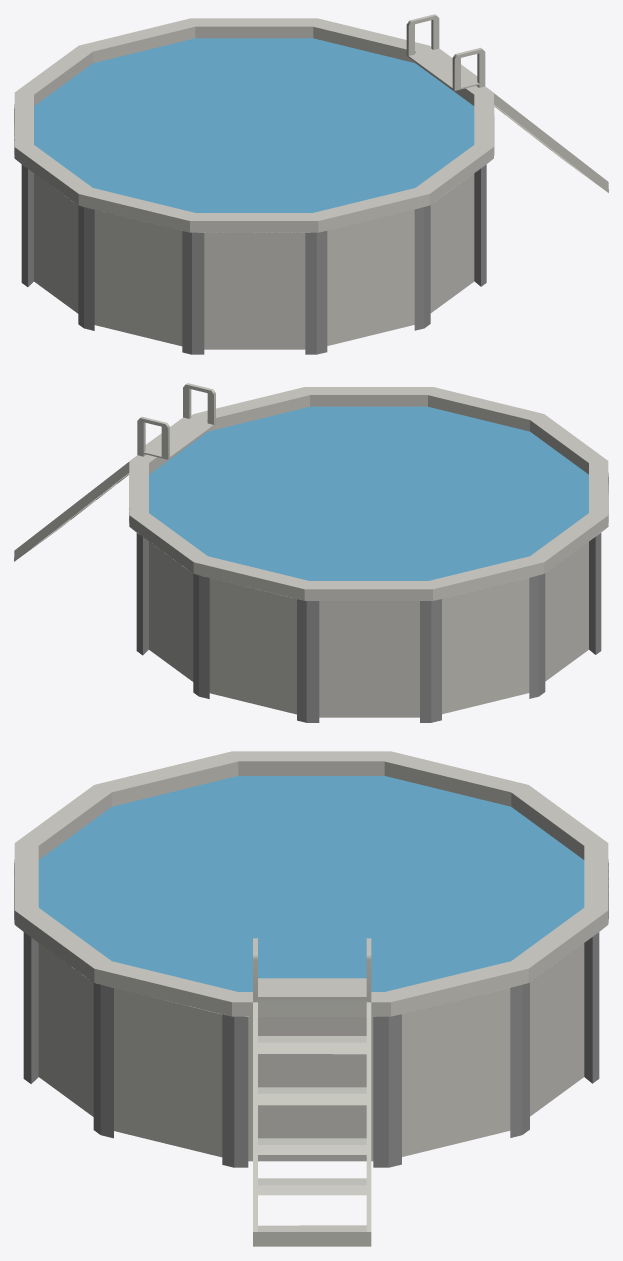
Rendered from pool01.fbx.
3 views of the same model, one above another, from view 1: azimuth 30°, elevation 25°; view 2: azimuth 150°, elevation 25°; view 3: azimuth 270°, elevation 25° (orthographic). The views are drawn at different scales.
Visible parts, largest first — view 1: pCylinder1; view 2: pCylinder1; view 3: pCylinder1.
Part boxes in pixels (bbox=[...]): pCylinder1: bbox=[14, 14, 608, 354]; pCylinder1: bbox=[14, 383, 608, 722]; pCylinder1: bbox=[14, 751, 608, 1246].
Size of the model in its own units: 14.87 by 4.61 by 11.48.
